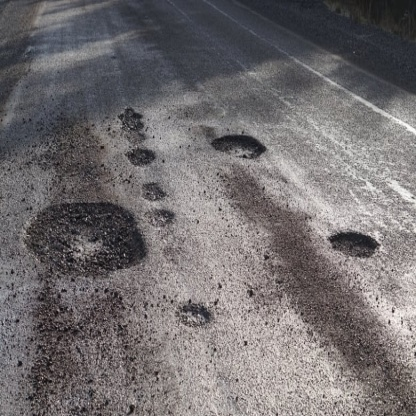pothole: (14, 190, 156, 292), (104, 95, 162, 174), (316, 217, 388, 271), (203, 126, 280, 169), (167, 299, 221, 337), (130, 175, 170, 207), (142, 204, 175, 232)
